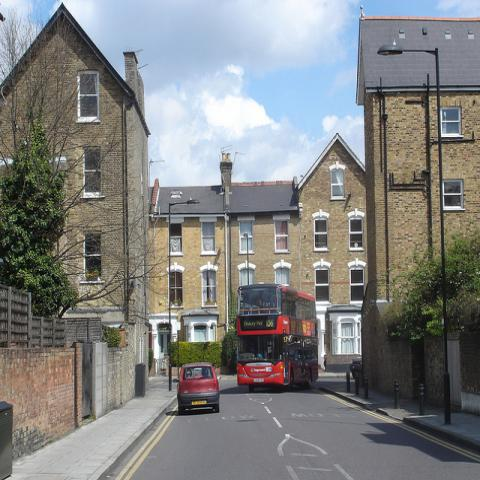bus: (237, 284, 319, 392)
car: (177, 360, 220, 412), (350, 357, 364, 377)
